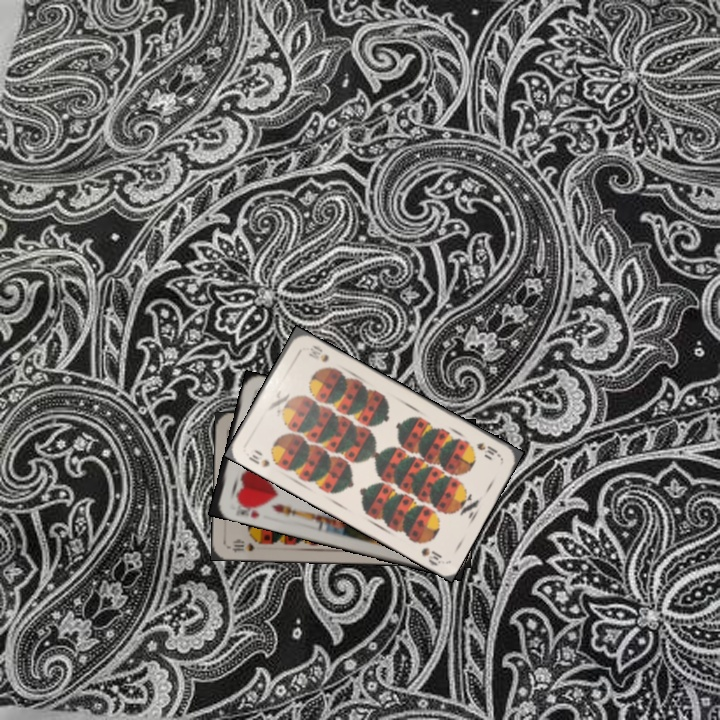HK: (233, 497, 264, 521)
S10: (472, 438, 503, 461), (244, 445, 272, 470), (226, 536, 258, 555)
